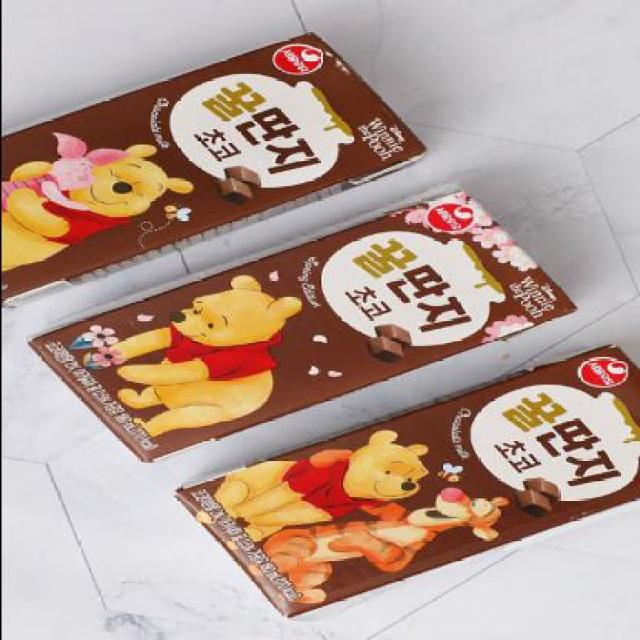tetra: (16, 162, 595, 484)
